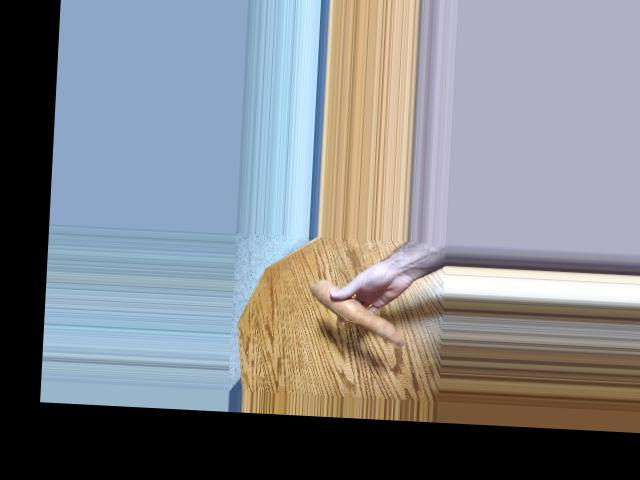sweet_potato: (297, 281, 406, 339)
